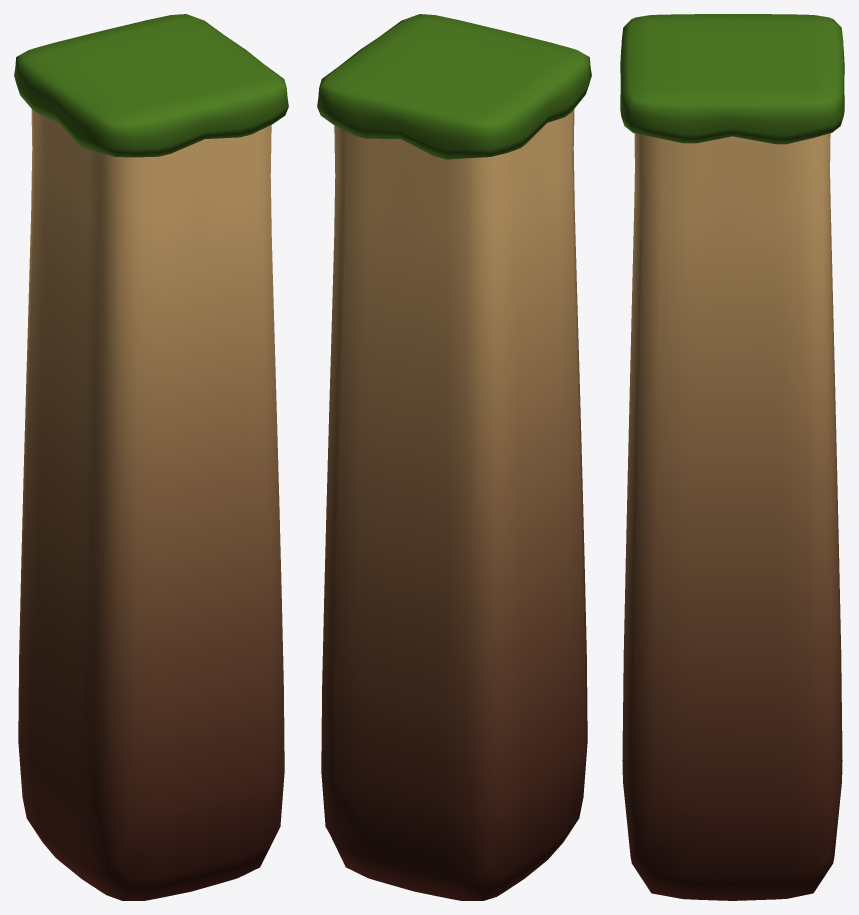
File: TileGreen_3x8m.fbx
3 views of the same model, side by side, from view 1: azimuth 30°, elevation 25°; view 2: azimuth 150°, elevation 25°; view 3: azimuth 270°, elevation 25° (orthographic).
Visible parts, largest first — view 1: TileGreen_3x8m; view 2: TileGreen_3x8m; view 3: TileGreen_3x8m.
Boxes of the visible parts, box(x1,y1,x2,y2) form: TileGreen_3x8m: box(14, 14, 288, 900); TileGreen_3x8m: box(317, 14, 591, 900); TileGreen_3x8m: box(620, 14, 844, 900).
Bounding box in the file's own units: 2 × 8 × 2.
